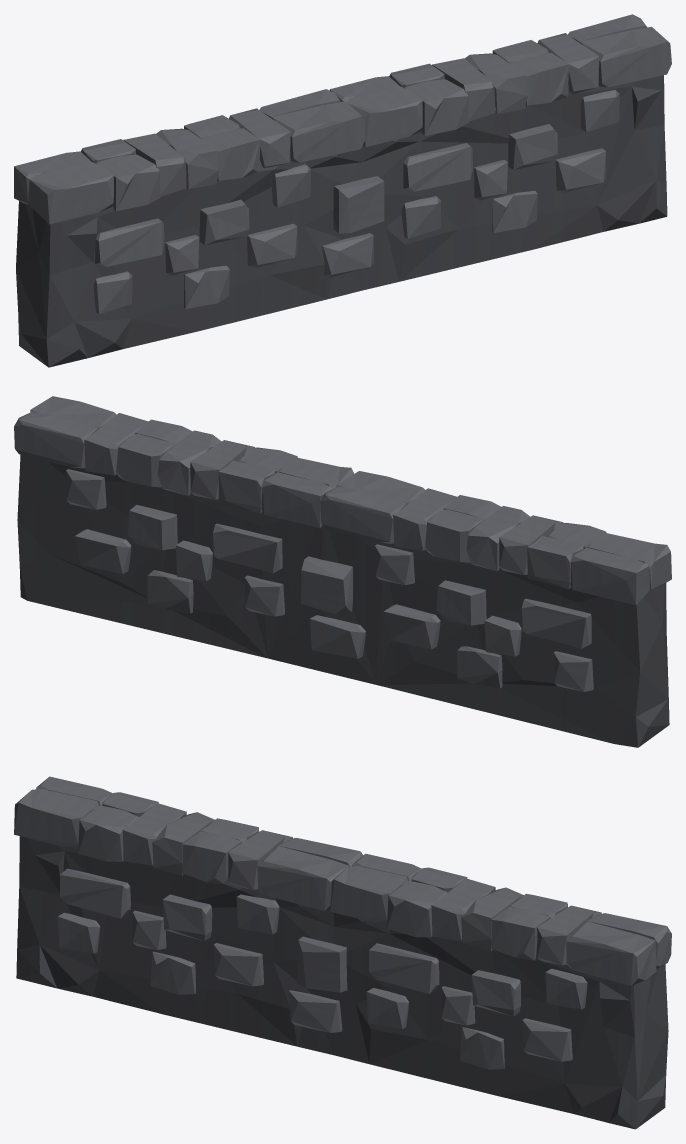
File: Wall_1B.fbx
3 renders of one model, top to bottom at view 1: azimuth 30°, elevation 25°; view 2: azimuth 150°, elevation 25°; view 3: azimuth 330°, elevation 25°, orthographic.
Parts seen in each view (by area): view 1: polySurface10019; view 2: polySurface10019; view 3: polySurface10019.
Part boxes in pixels (x1,y1,x2,y2): polySurface10019: (14,14,671,367); polySurface10019: (14,396,671,747); polySurface10019: (14,776,671,1129).
Size of the model in its own units: 811 by 222 by 105.
